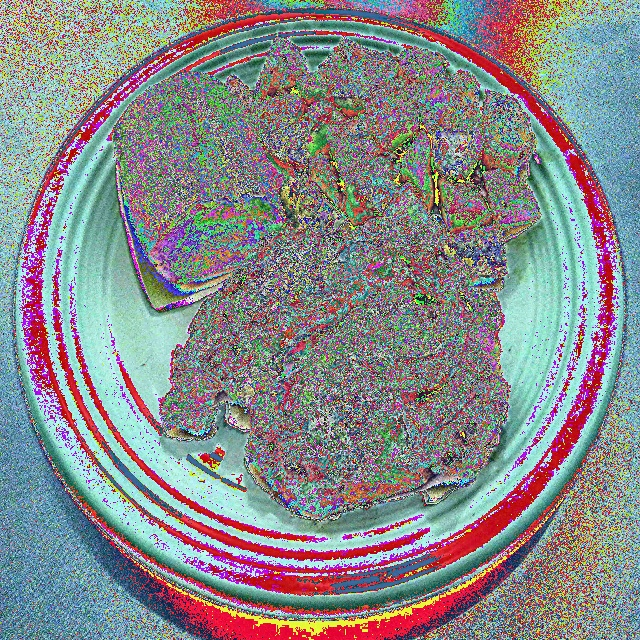background: (113, 34, 540, 518)
